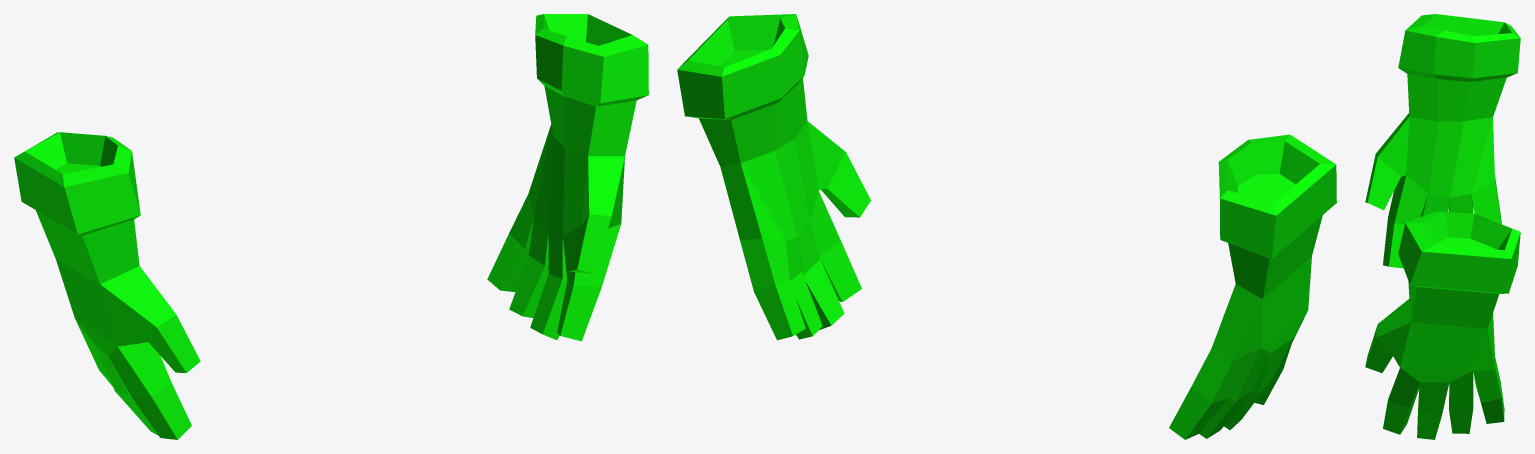
Rendered from SM_Armor_Gloves_A_Hanging_Fantasy.fbx.
The picture shows the model from 3 angles, left to right: view 1: azimuth 30°, elevation 25°; view 2: azimuth 150°, elevation 25°; view 3: azimuth 270°, elevation 25°; orthographic projection. The views are drawn at different scales.
Visible parts, largest first — view 1: armor-gloves-a-hanging-fantasy; view 2: armor-gloves-a-hanging-fantasy; view 3: armor-gloves-a-hanging-fantasy.
Boxes of the visible parts, bbox=[...] form: armor-gloves-a-hanging-fantasy: bbox=[14, 14, 648, 439]; armor-gloves-a-hanging-fantasy: bbox=[677, 14, 1336, 439]; armor-gloves-a-hanging-fantasy: bbox=[1365, 14, 1520, 439].
Size of the model in its own units: 0.6122 by 0.2885 by 0.1703.
